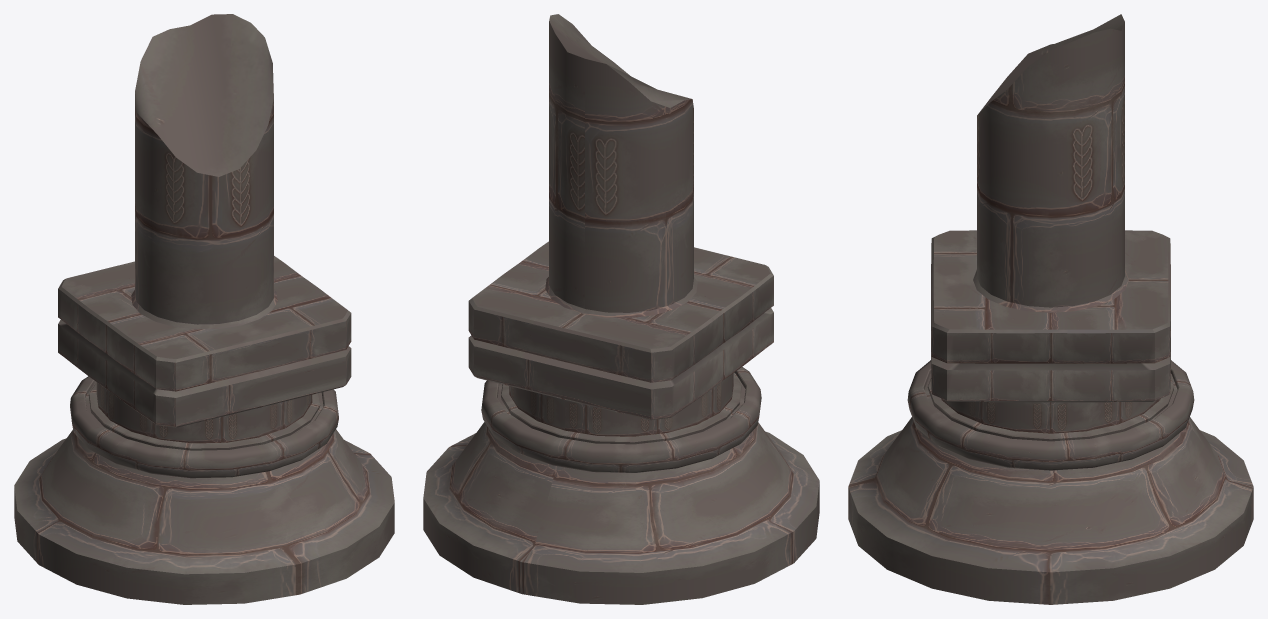
The model's file is PillarDamaged2_4.fbx.
The picture shows the model from 3 angles, left to right: view 1: azimuth 30°, elevation 25°; view 2: azimuth 150°, elevation 25°; view 3: azimuth 270°, elevation 25°; orthographic projection. The views are drawn at different scales.
Parts seen in each view (by area): view 1: pasted__pasted__polySurface78; view 2: pasted__pasted__polySurface78; view 3: pasted__pasted__polySurface78.
Boxes of the visible parts, bbox=[...] form: pasted__pasted__polySurface78: bbox=[14, 14, 394, 604]; pasted__pasted__polySurface78: bbox=[423, 14, 819, 604]; pasted__pasted__polySurface78: bbox=[848, 14, 1253, 604].
Size of the model in its own units: 62.26 by 86.8 by 62.25.
